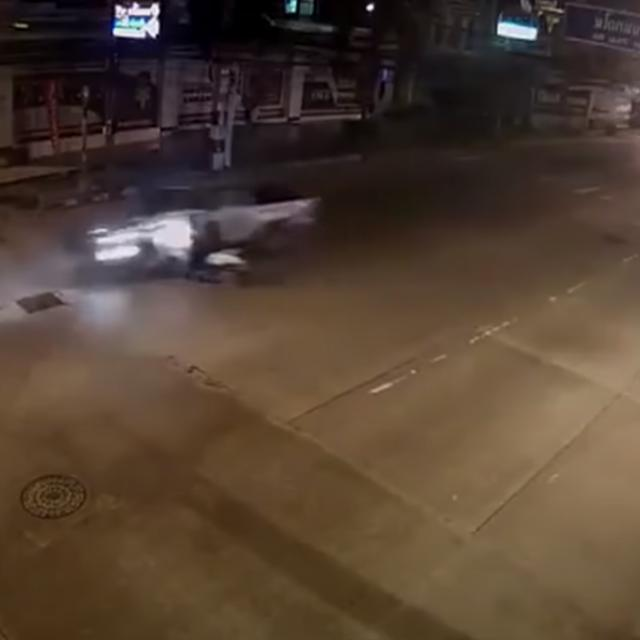accident: (82, 173, 324, 314)
